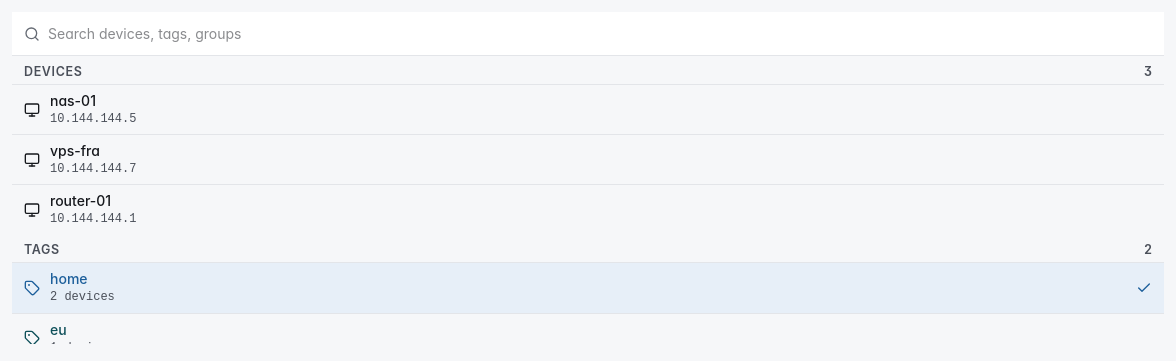
Test: SubjectPicker › searches devices and shows the picker list directly for sheets
The width and height of the screenshot is (1176, 361).
Type "vps" into the search field named "Search From". click: (600, 34)
box: [48,14,1152,54]
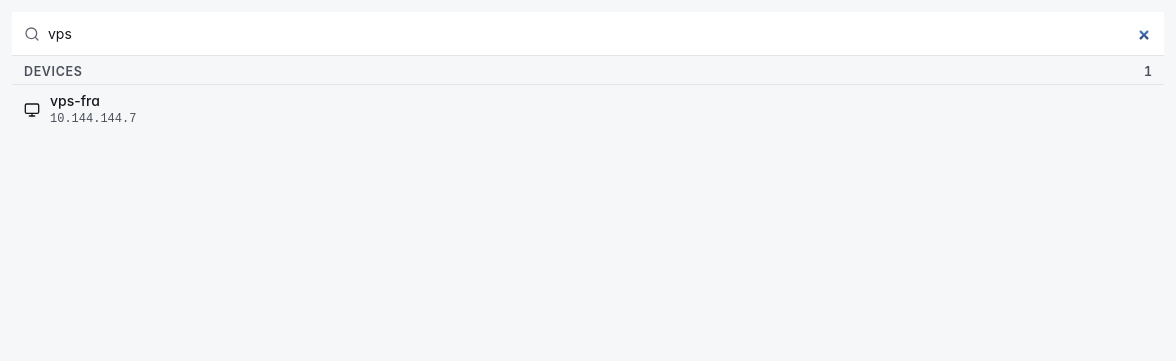
Expected: the option "vps-fra 10.144.144.7" is shown, [12,84,1164,134]
Expected: the option "nas-01" is gone
